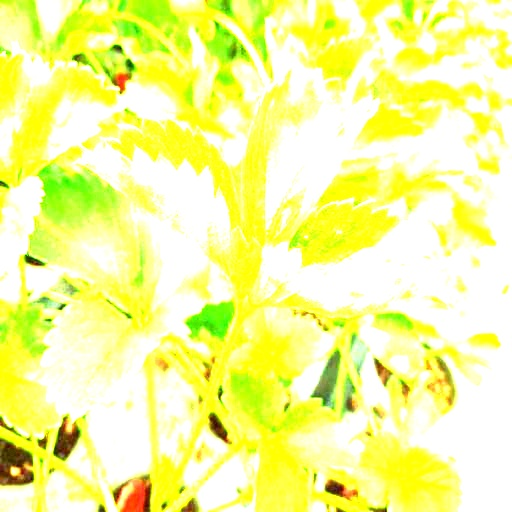Powdery Mildew Leaf: (73, 115, 263, 301), (240, 66, 381, 252), (248, 198, 453, 317), (336, 100, 433, 177)
